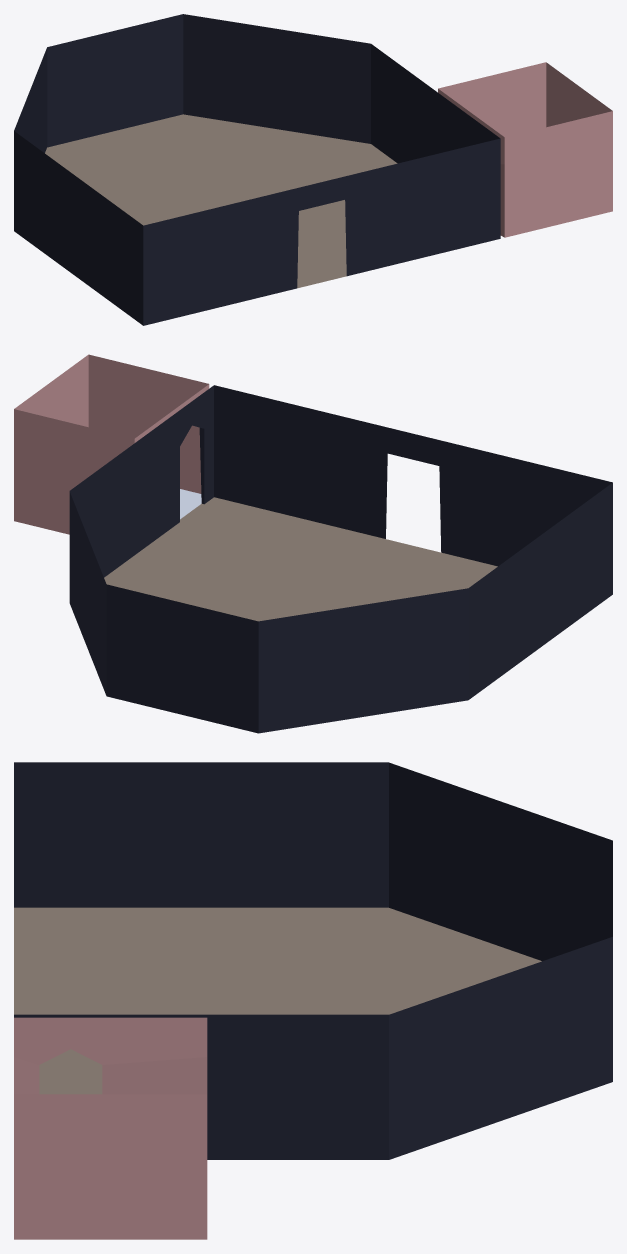
Rendered from Room.fbx.
The picture shows the model from 3 angles, top to bottom: view 1: azimuth 30°, elevation 25°; view 2: azimuth 150°, elevation 25°; view 3: azimuth 270°, elevation 25°; orthographic projection. The views are drawn at different scales.
Visible parts, largest first — view 1: Room; view 2: Room; view 3: Room.
Boxes of the visible parts, left/top/right/bottom form: Room: left=14, top=14, right=612, bottom=325; Room: left=14, top=354, right=612, bottom=733; Room: left=14, top=762, right=612, bottom=1239.
Size of the model in its own units: 28308 by 5781 by 21600.
